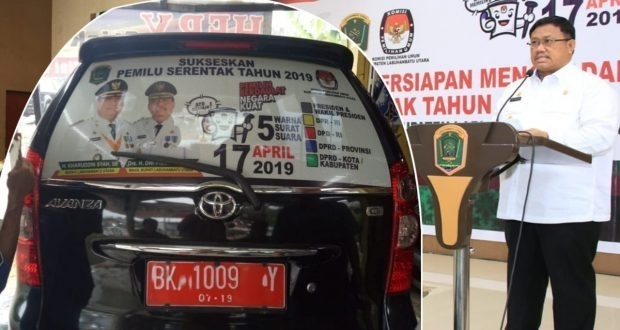plate: (147, 261, 285, 310)
